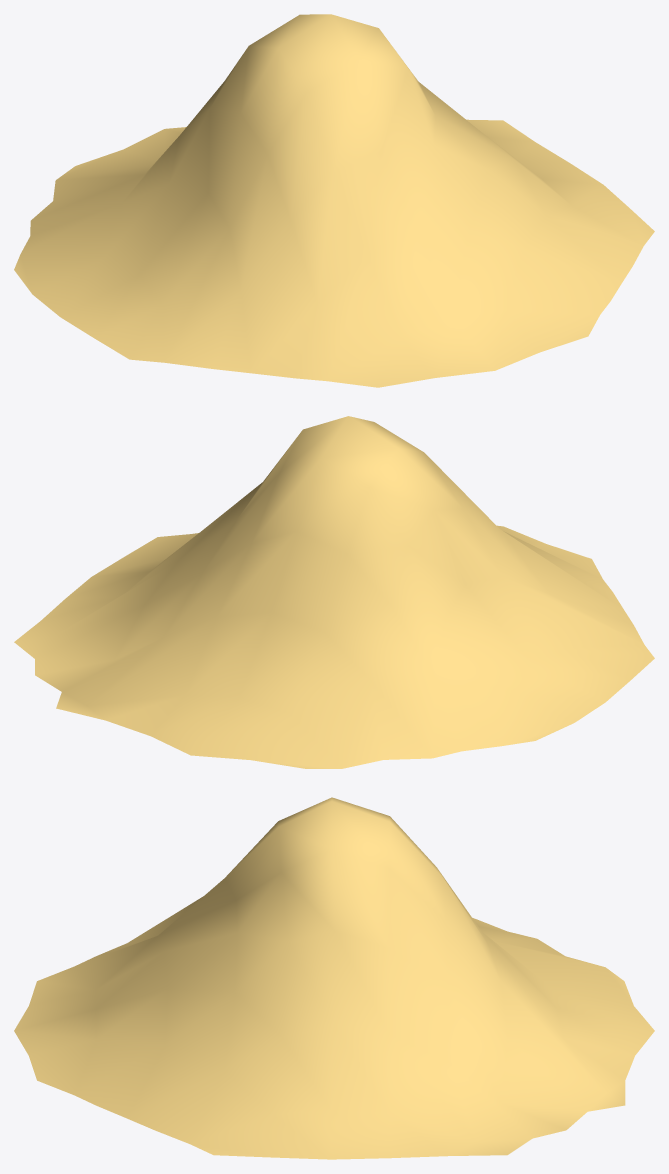
The model's file is Mesh_Hay_Heep.fbx.
The picture shows the model from 3 angles, top to bottom: view 1: azimuth 30°, elevation 25°; view 2: azimuth 150°, elevation 25°; view 3: azimuth 270°, elevation 25°; orthographic projection. The views are drawn at different scales.
Parts seen in each view (by area): view 1: Hay_Heep; view 2: Hay_Heep; view 3: Hay_Heep.
Boxes of the visible parts, left/top/right/bottom form: Hay_Heep: left=14, top=14, right=654, bottom=387; Hay_Heep: left=14, top=416, right=654, bottom=768; Hay_Heep: left=14, top=797, right=654, bottom=1159.
Bounding box in the file's own units: 697 × 290 × 735.
1 material, 1 textured.
